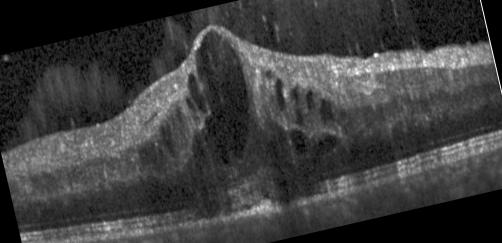intraretinal_cyst: (194, 48, 232, 164), (222, 40, 254, 158), (200, 28, 223, 68), (187, 72, 208, 113), (264, 120, 285, 157), (191, 129, 208, 173), (288, 83, 303, 126), (312, 133, 340, 155), (287, 128, 308, 155), (137, 143, 162, 164), (318, 97, 335, 125), (160, 125, 174, 158), (185, 96, 199, 125), (274, 78, 285, 110), (305, 89, 316, 113), (175, 105, 183, 129), (165, 122, 172, 138), (265, 68, 271, 78)
